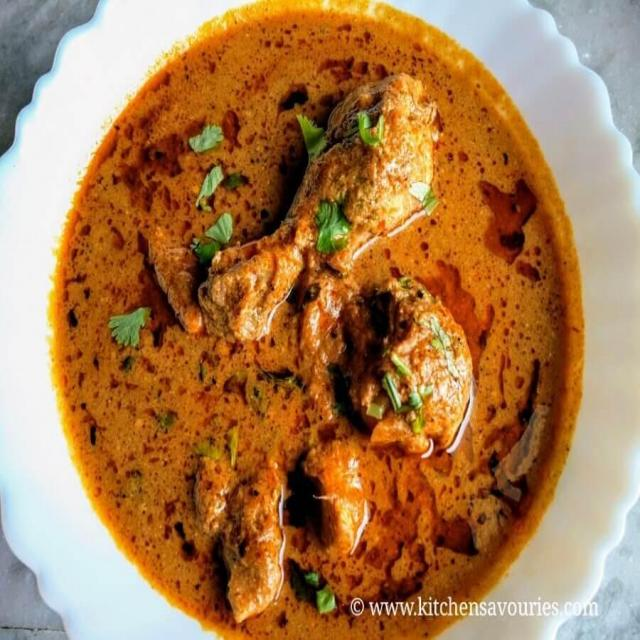chicken: (100, 75, 503, 633)
